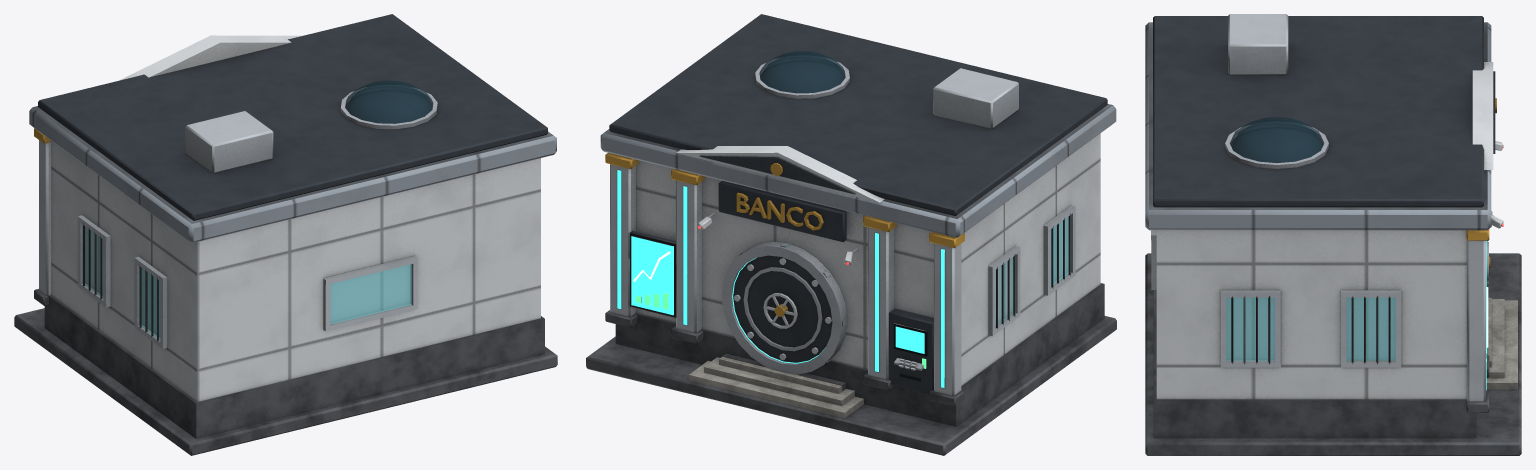
The model's file is banco_galactico.fbx.
3 renders of one model, left to right at view 1: azimuth 30°, elevation 25°; view 2: azimuth 150°, elevation 25°; view 3: azimuth 270°, elevation 25°, orthographic. The views are drawn at different scales.
Visible parts, largest first — view 1: banco_galactico, banco_galactico_cristal; view 2: banco_galactico, banco_galactico_puerta_acorazada, banco_galactico_cristal, banco_galactico_pantalla_neon, banco_galactico_neon; view 3: banco_galactico, banco_galactico_cristal.
Part boxes in pixels (x1,y1,x2,y2): banco_galactico: (14, 14, 557, 455); banco_galactico_cristal: (82, 80, 432, 339); banco_galactico: (586, 14, 1116, 455); banco_galactico_puerta_acorazada: (733, 255, 832, 362); banco_galactico_cristal: (759, 51, 1070, 326); banco_galactico_pantalla_neon: (631, 236, 924, 353); banco_galactico_neon: (617, 170, 944, 387); banco_galactico: (1145, 14, 1521, 455); banco_galactico_cristal: (1226, 117, 1395, 361).
Bounding box in the file's own units: 12 × 8.35 × 10.
3 materials, 3 textured.
